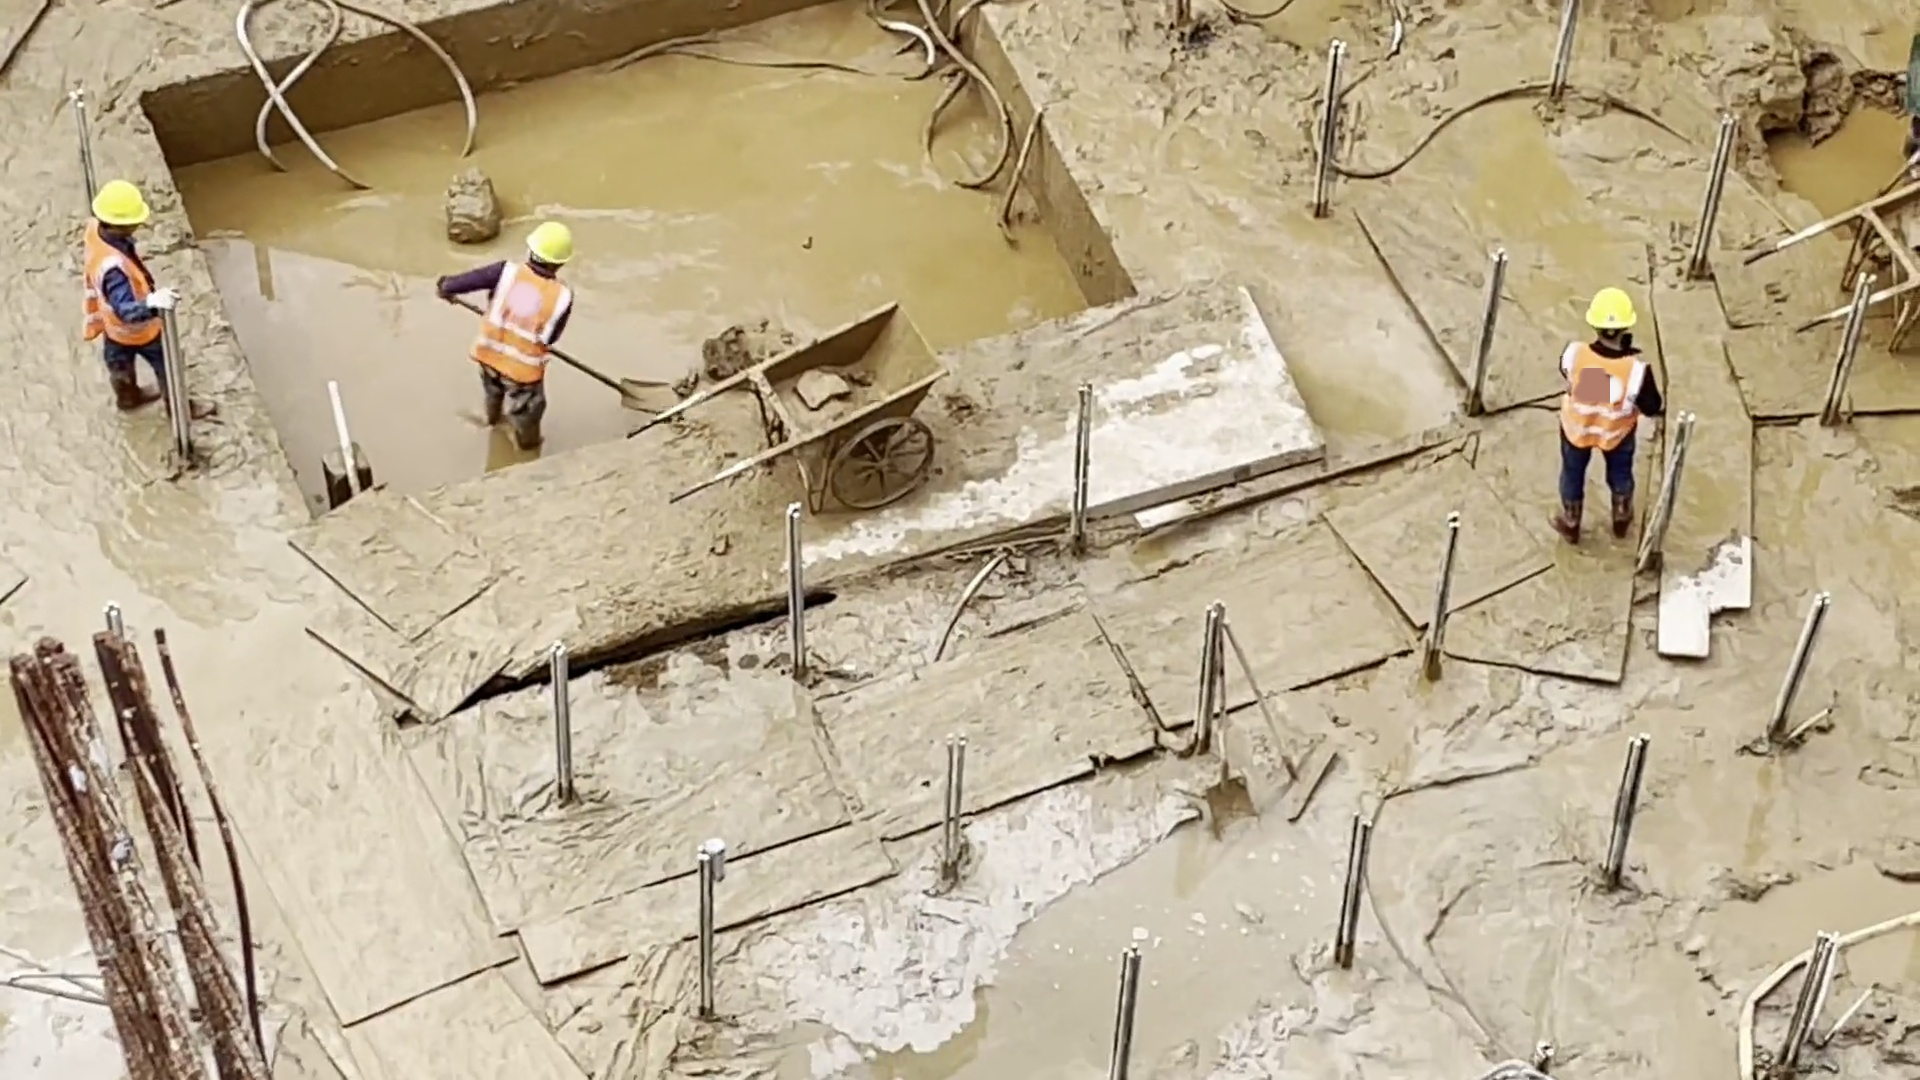helmet: (90, 179, 151, 228), (527, 219, 578, 265), (1585, 286, 1638, 330)
person: (77, 172, 217, 423), (438, 219, 588, 454), (1544, 286, 1668, 546)
vest: (471, 265, 573, 383), (84, 230, 167, 349), (1556, 336, 1642, 450)
